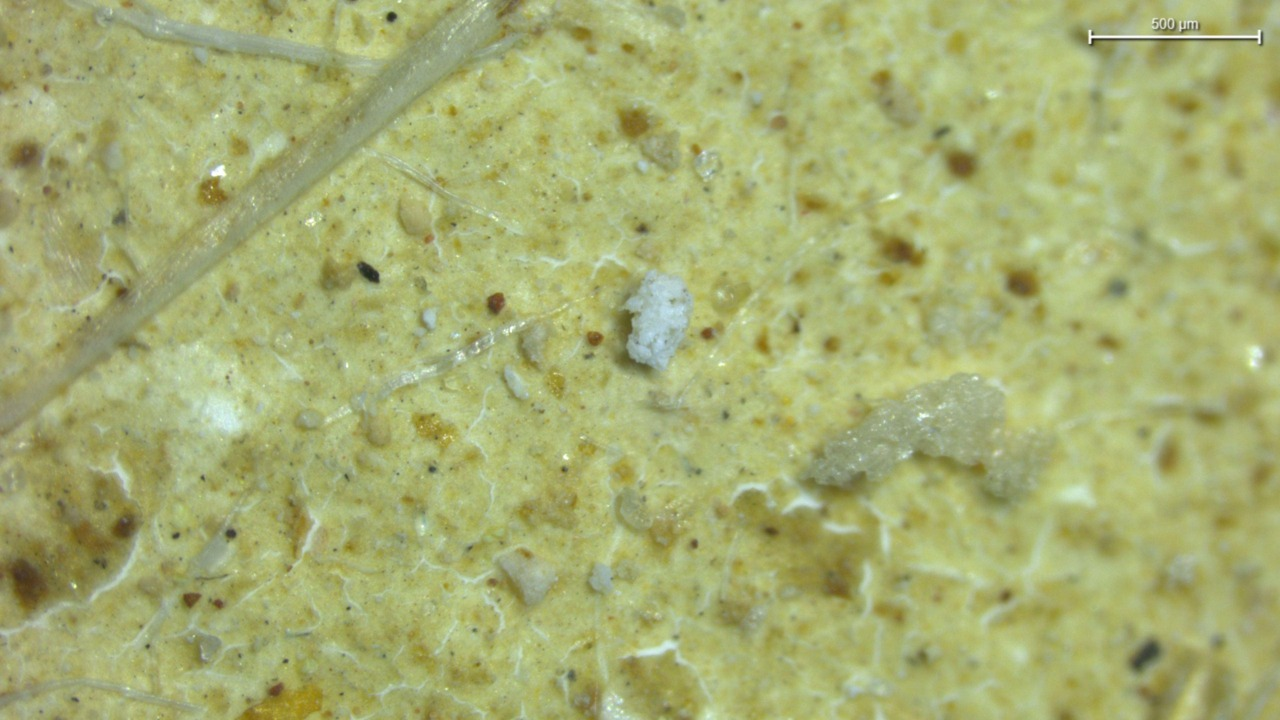microplastic_fragment: (625, 270, 693, 371), (494, 547, 557, 605)
